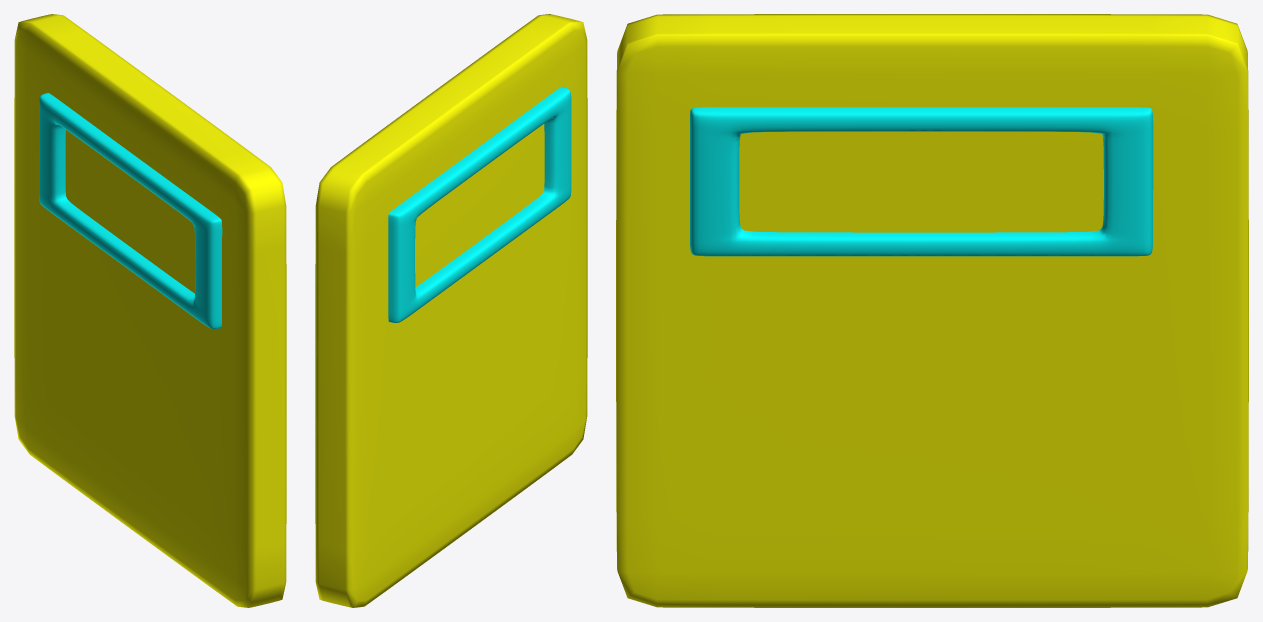
3 renders of one model, left to right at view 1: azimuth 30°, elevation 25°; view 2: azimuth 150°, elevation 25°; view 3: azimuth 270°, elevation 25°, orthographic. The views are drawn at different scales.
Parts seen in each view (by area): view 1: pasted__pCube460; view 2: pasted__pCube460; view 3: pasted__pCube460.
Boxes of the visible parts, x1,y1,x2,y2 form: pasted__pCube460: [14, 14, 286, 607]; pasted__pCube460: [315, 14, 587, 607]; pasted__pCube460: [616, 14, 1248, 607].
Bounding box in the file's own units: 0.1498 × 0.9994 × 0.9994.
